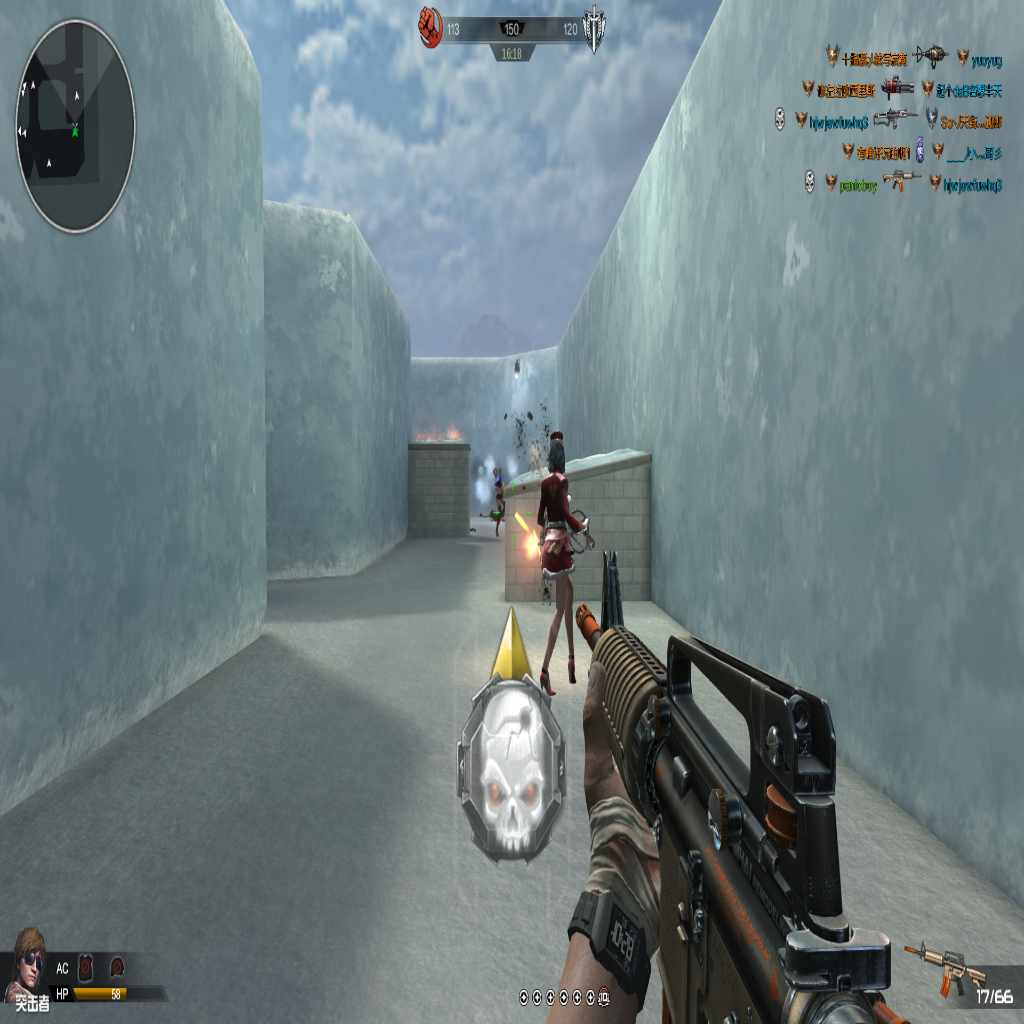ct: (492, 468, 505, 540)
tt: (532, 428, 595, 698)
